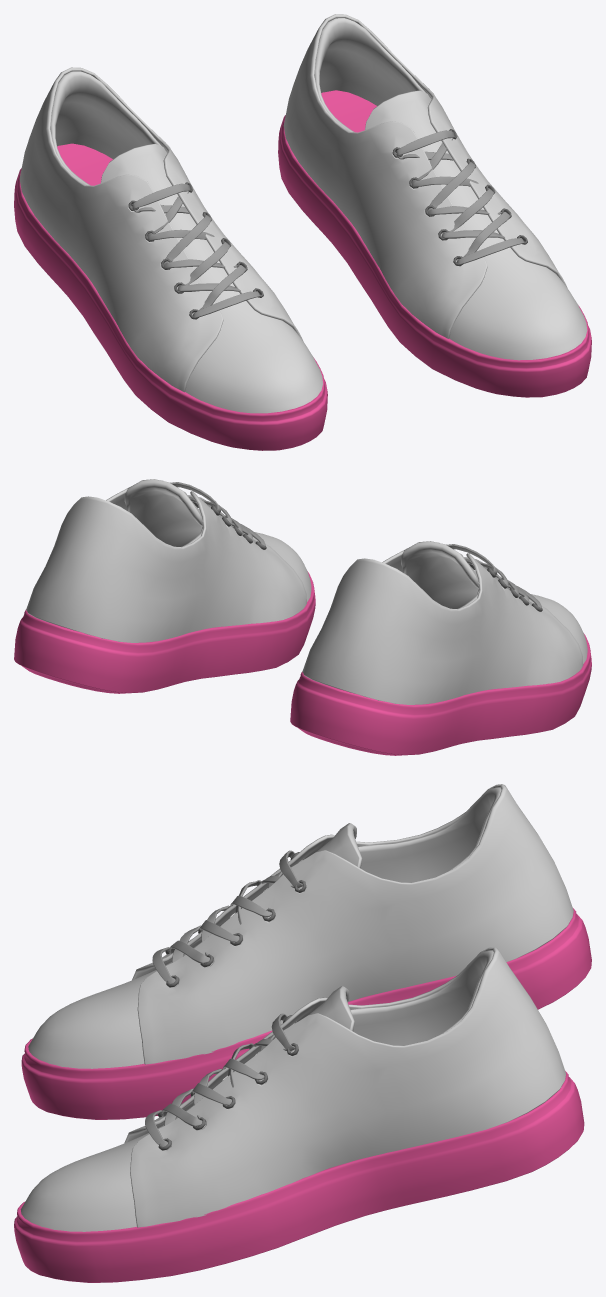
The model's file is sneaker_3.glb.
3 views of the same model, one above another, from view 1: azimuth 30°, elevation 25°; view 2: azimuth 150°, elevation 25°; view 3: azimuth 270°, elevation 25° (orthographic). The views are drawn at different scales.
Parts seen in each view (by area): view 1: upper_1, upper_1.001, upper_2, upper_2.001, sole.001, sole, laces, laces.001; view 2: upper_1.001, upper_1, sole.001, sole, upper_2.001, upper_2, laces.001, laces; view 3: upper_1.001, upper_1, sole.001, sole, upper_2, upper_2.001, laces.001, laces.
Part boxes in pixels (x1=…): upper_1: x1=19, y1=67, x2=303, y2=392; upper_1.001: x1=283, y1=14, x2=567, y2=338; upper_2: x1=50, y1=71, x2=322, y2=413; upper_2.001: x1=314, y1=18, x2=587, y2=360; sole.001: x1=278, y1=90, x2=591, y2=397; sole: x1=14, y1=143, x2=327, y2=450; laces: x1=131, y1=183, x2=259, y2=318; laces.001: x1=396, y1=130, x2=524, y2=265; upper_1.001: x1=26, y1=480, x2=306, y2=642; upper_1: x1=302, y1=542, x2=583, y2=704; sole.001: x1=14, y1=571, x2=315, y2=693; sole: x1=290, y1=634, x2=591, y2=755; upper_2.001: x1=39, y1=479, x2=311, y2=619; upper_2: x1=315, y1=541, x2=587, y2=681; laces.001: x1=170, y1=482, x2=265, y2=549; laces: x1=446, y1=544, x2=541, y2=611; upper_1.001: x1=124, y1=947, x2=565, y2=1227; upper_1: x1=132, y1=784, x2=573, y2=1064; sole.001: x1=14, y1=1071, x2=584, y2=1282; sole: x1=21, y1=908, x2=591, y2=1119; upper_2: x1=28, y1=788, x2=568, y2=1068; upper_2.001: x1=20, y1=951, x2=561, y2=1231; laces.001: x1=145, y1=1013, x2=295, y2=1146; laces: x1=152, y1=850, x2=302, y2=983.
Bounding box in the file's own units: 1.5 × 0.9016 × 1.53.
5 materials, 1 textured.
